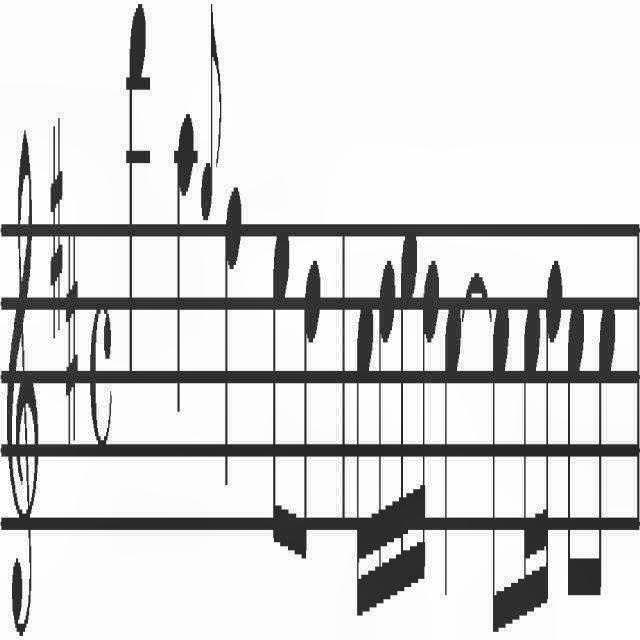Bass-clef: (0, 83, 40, 640)
Diez: (44, 101, 64, 357), (64, 205, 80, 429)
Eighth-note: (268, 199, 292, 601), (593, 280, 619, 640), (296, 234, 324, 566), (491, 295, 511, 640), (569, 284, 587, 640)
Quarter-note: (118, 1, 150, 400), (168, 86, 196, 430), (220, 168, 243, 512), (443, 294, 461, 594)
Sixteenth-note: (394, 212, 418, 632), (376, 231, 400, 640), (538, 244, 562, 640), (352, 252, 376, 640), (420, 250, 440, 618), (522, 282, 538, 640)
